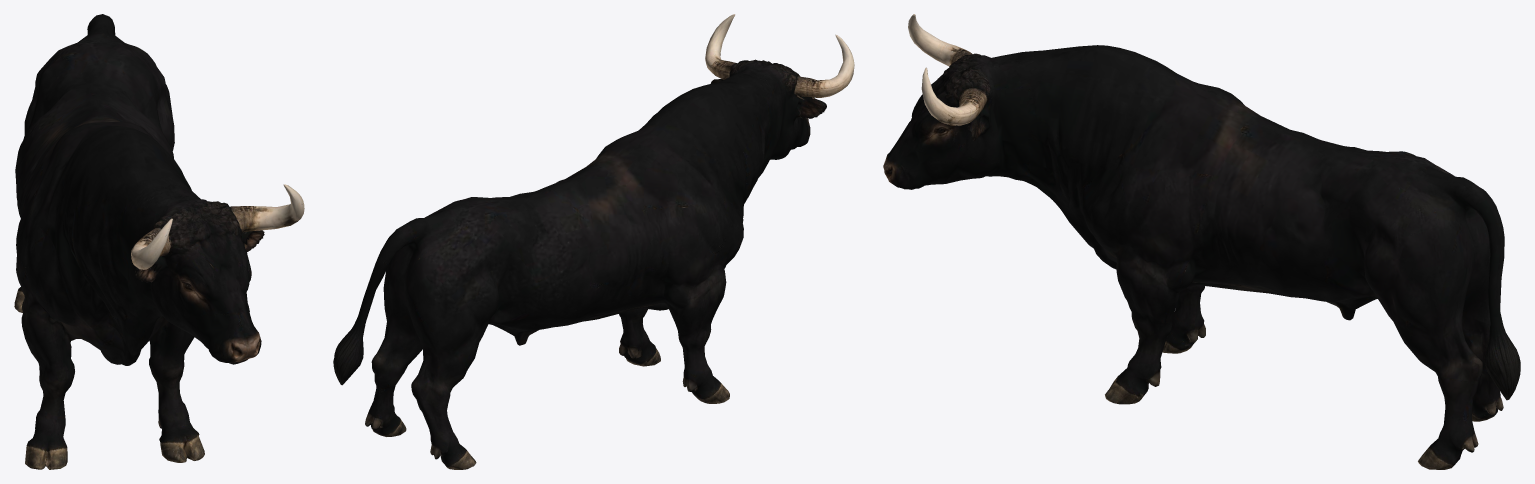
Rendered from toro-ruedo.glb.
3 views of the same model, side by side, from view 1: azimuth 30°, elevation 25°; view 2: azimuth 150°, elevation 25°; view 3: azimuth 270°, elevation 25° (orthographic). The views are drawn at different scales.
Parts seen in each view (by area): view 1: bull; view 2: bull; view 3: bull.
Boxes of the visible parts, bbox=[...] form: bull: bbox=[14, 14, 304, 469]; bull: bbox=[333, 14, 854, 469]; bull: bbox=[883, 14, 1520, 469].
Bounding box in the file's own units: 1.39 × 1.41 × 2.5.
1 material, 1 textured.
